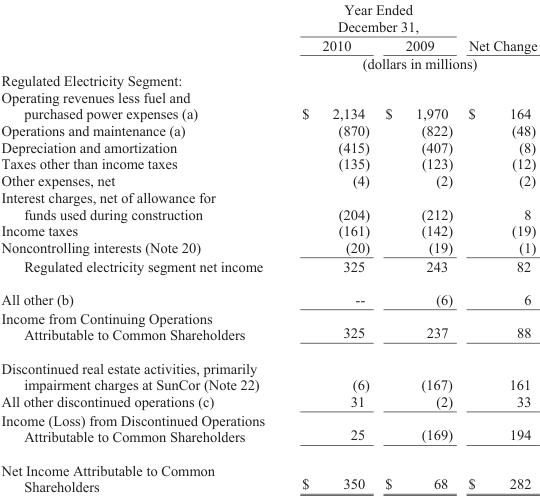table: (0, 1, 536, 494)
table column: (0, 1, 282, 494), (282, 1, 376, 494), (376, 1, 459, 494), (459, 1, 536, 494)
table column header: (0, 1, 536, 71)
table projected row header: (0, 71, 536, 88)
table row: (0, 308, 536, 351), (0, 410, 536, 453), (0, 351, 536, 392), (0, 453, 536, 494), (0, 1, 536, 35), (0, 88, 536, 121), (0, 188, 536, 221), (0, 256, 536, 282), (0, 282, 536, 308), (0, 35, 536, 54), (0, 238, 536, 256), (0, 392, 536, 410), (0, 54, 536, 71), (0, 71, 536, 88), (0, 121, 536, 138), (0, 138, 536, 155), (0, 171, 536, 188), (0, 221, 536, 238), (0, 155, 536, 171)
table spanning cell: (282, 1, 459, 35), (282, 54, 536, 71), (459, 1, 536, 54)
